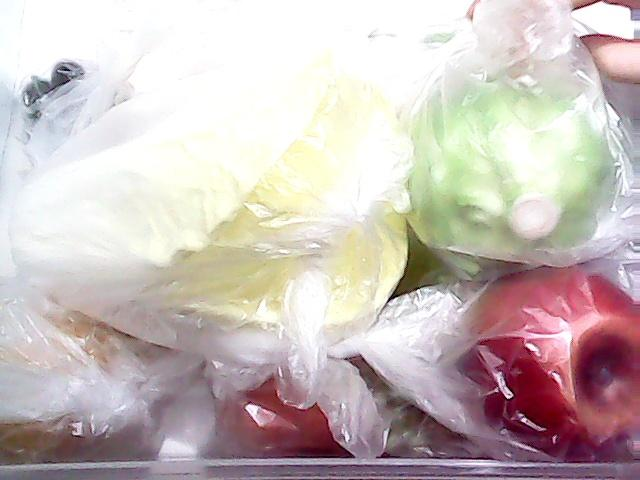apple: (452, 257, 640, 453)
cabbage: (402, 50, 622, 274)
grape: (359, 359, 465, 474), (1, 54, 135, 142)
napa cabbage: (5, 61, 471, 346)
peach: (214, 344, 362, 458)
potato: (1, 305, 168, 471)
